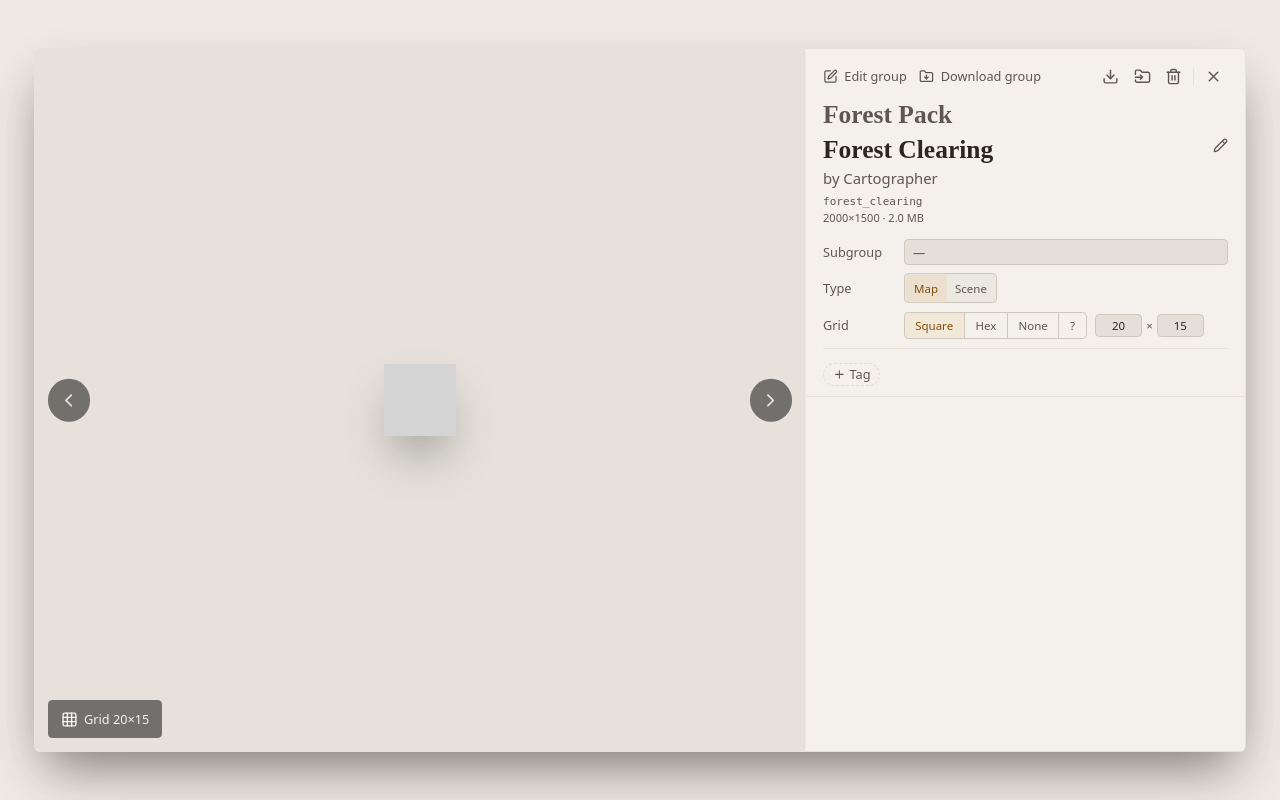
Scenario: ImageViewer › keyboard › defers to an open dialog
Click the button titled "Delete image": (1174, 77) [1159,62,1189,92]
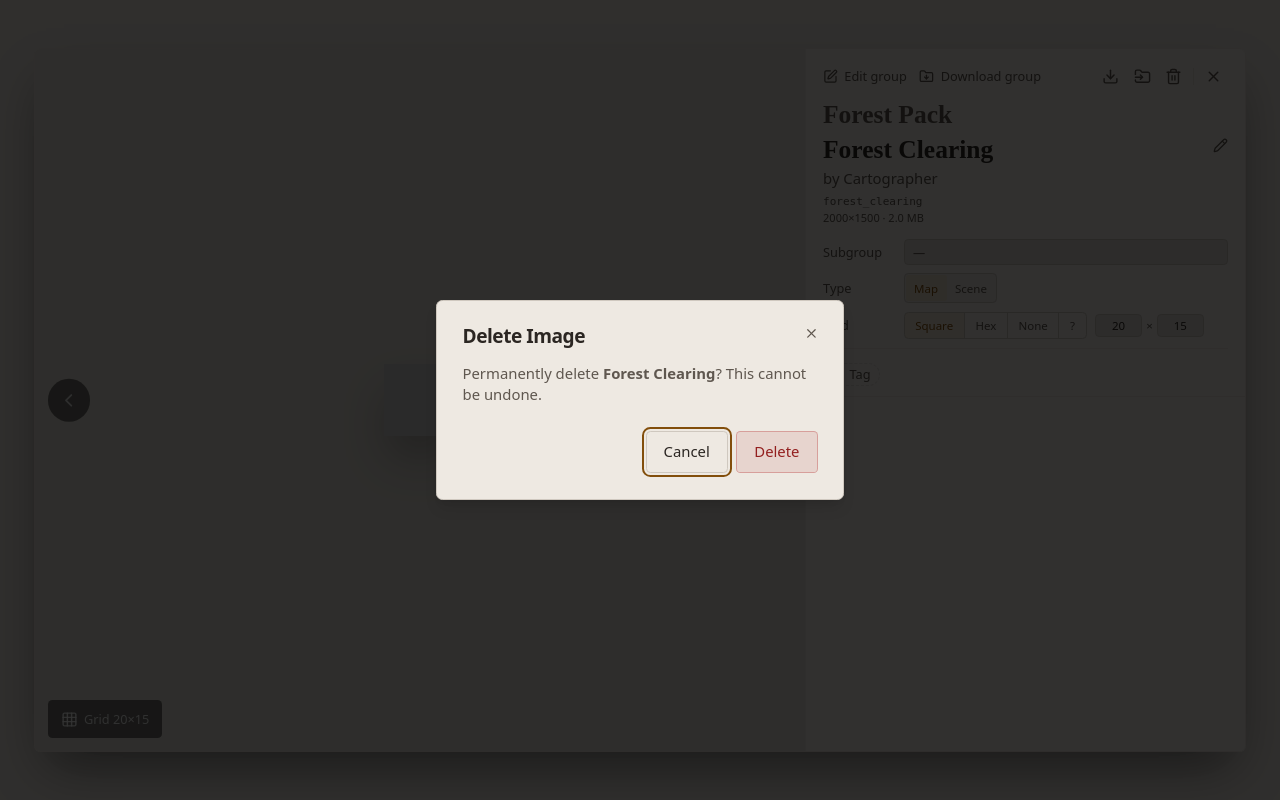
Check: the dialog "Delete Image" is shown, box [436,300,844,500]
Press Arrowright
Press Escape
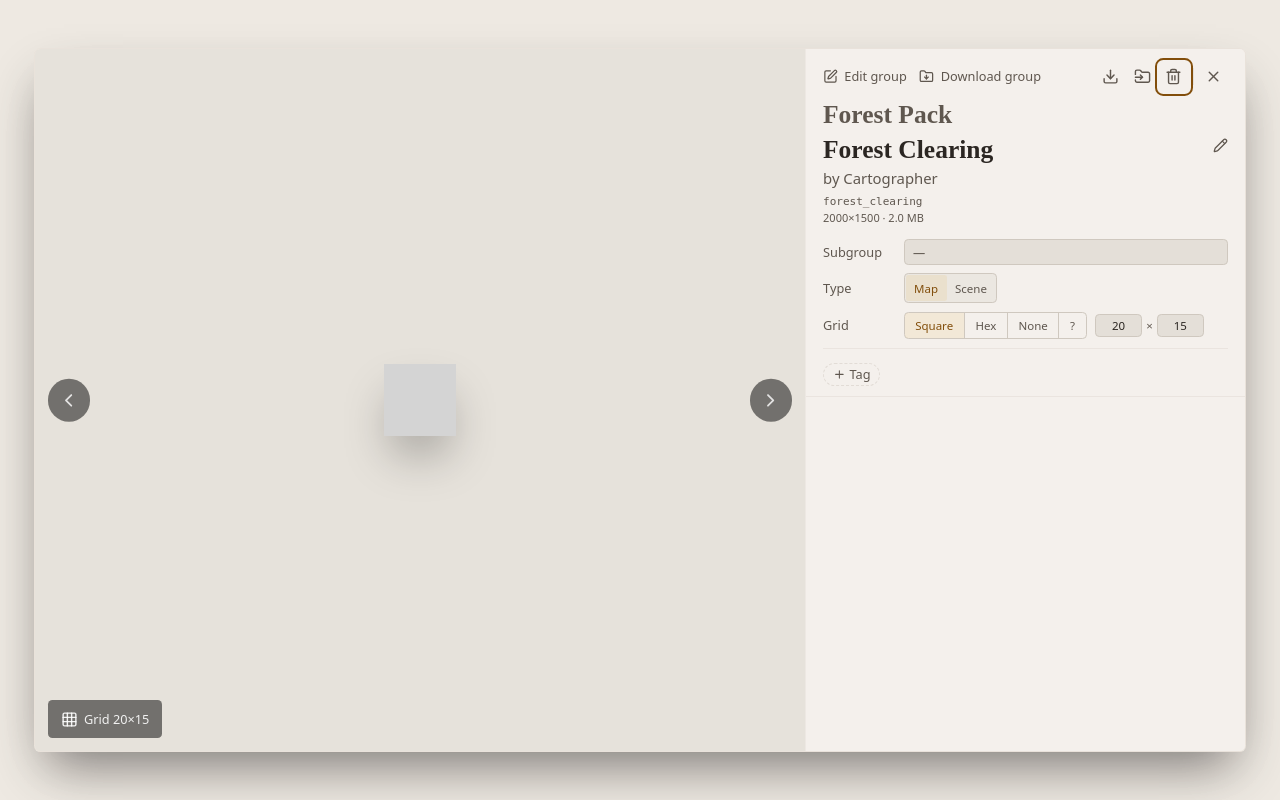
Check: the heading "Delete Image" is gone
